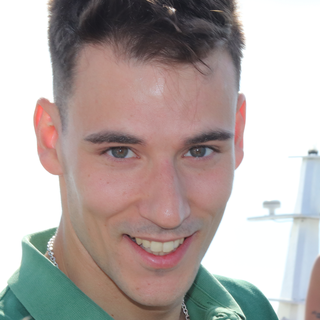eye: (94, 140, 143, 165), (177, 139, 226, 164)
